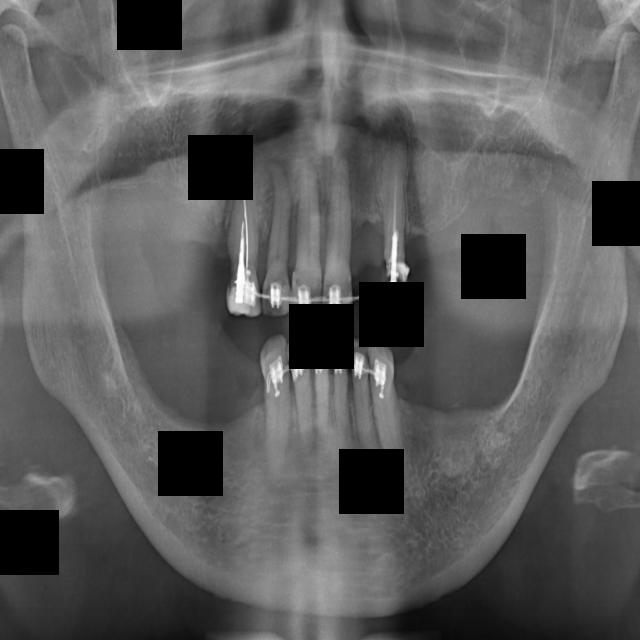BioHorizons Implant: (363, 335, 412, 489)
BioLife Implant: (346, 335, 382, 465)
Biomet 3i Implant: (331, 329, 351, 445)
Blue Sky Bio Implant: (311, 326, 331, 446)
Camlog Implant: (290, 332, 317, 459)
Composite filling: (259, 333, 295, 474)
Filling: (221, 173, 262, 320)
Hiossen Implant: (381, 136, 411, 314)
Implant: (288, 156, 331, 323)
Implant Direct: (259, 155, 295, 319)
Keystone Dental Implant: (321, 152, 361, 321)
